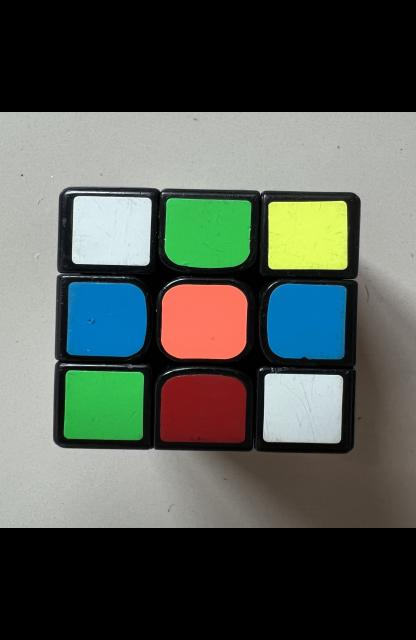Blue: (266, 283, 346, 359), (66, 282, 146, 357)
Green: (163, 198, 250, 268), (63, 370, 143, 440)
Orange: (159, 284, 247, 359)
Red: (159, 374, 245, 444)
White: (262, 373, 342, 444), (70, 195, 150, 266)
Yellow: (267, 201, 347, 269)
